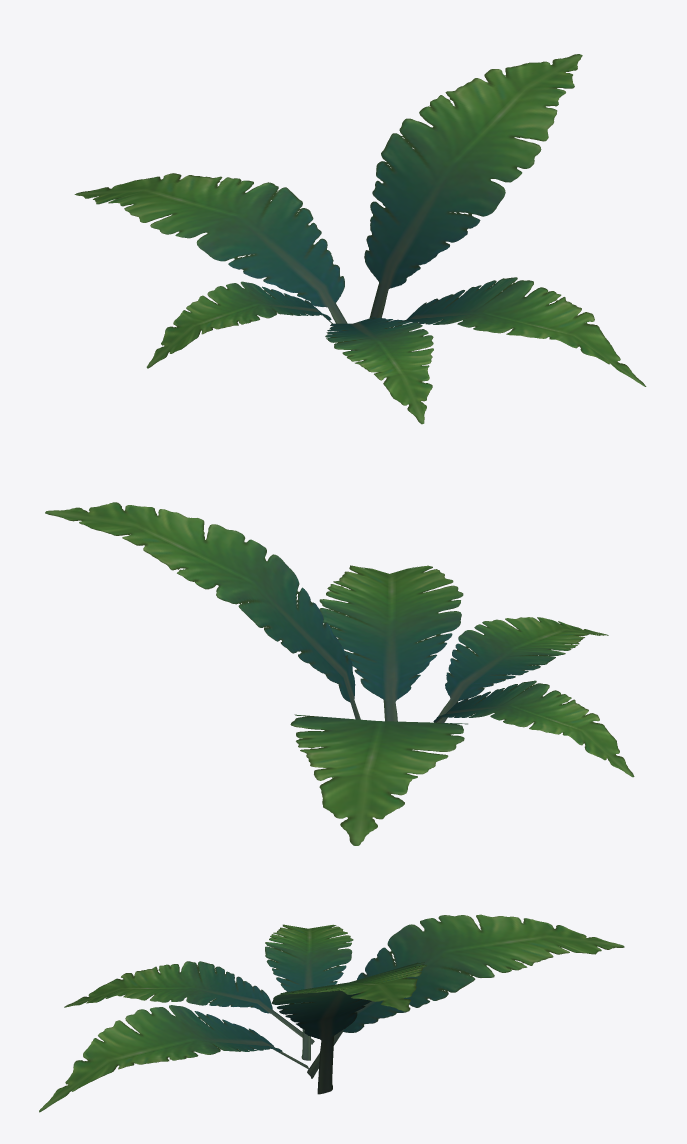
The model's file is sucai_10_10.FBX.
3 renders of one model, top to bottom at view 1: azimuth 30°, elevation 25°; view 2: azimuth 150°, elevation 25°; view 3: azimuth 270°, elevation 25°, orthographic. The views are drawn at different scales.
Visible parts, largest first — view 1: sucai_10; view 2: sucai_10; view 3: sucai_10.
Part boxes in pixels (x1=…): sucai_10: x1=74, y1=54, x2=646, y2=424; sucai_10: x1=45, y1=502, x2=634, y2=845; sucai_10: x1=39, y1=914, x2=624, y2=1112.
Size of the model in its own units: 234 by 102 by 259.
